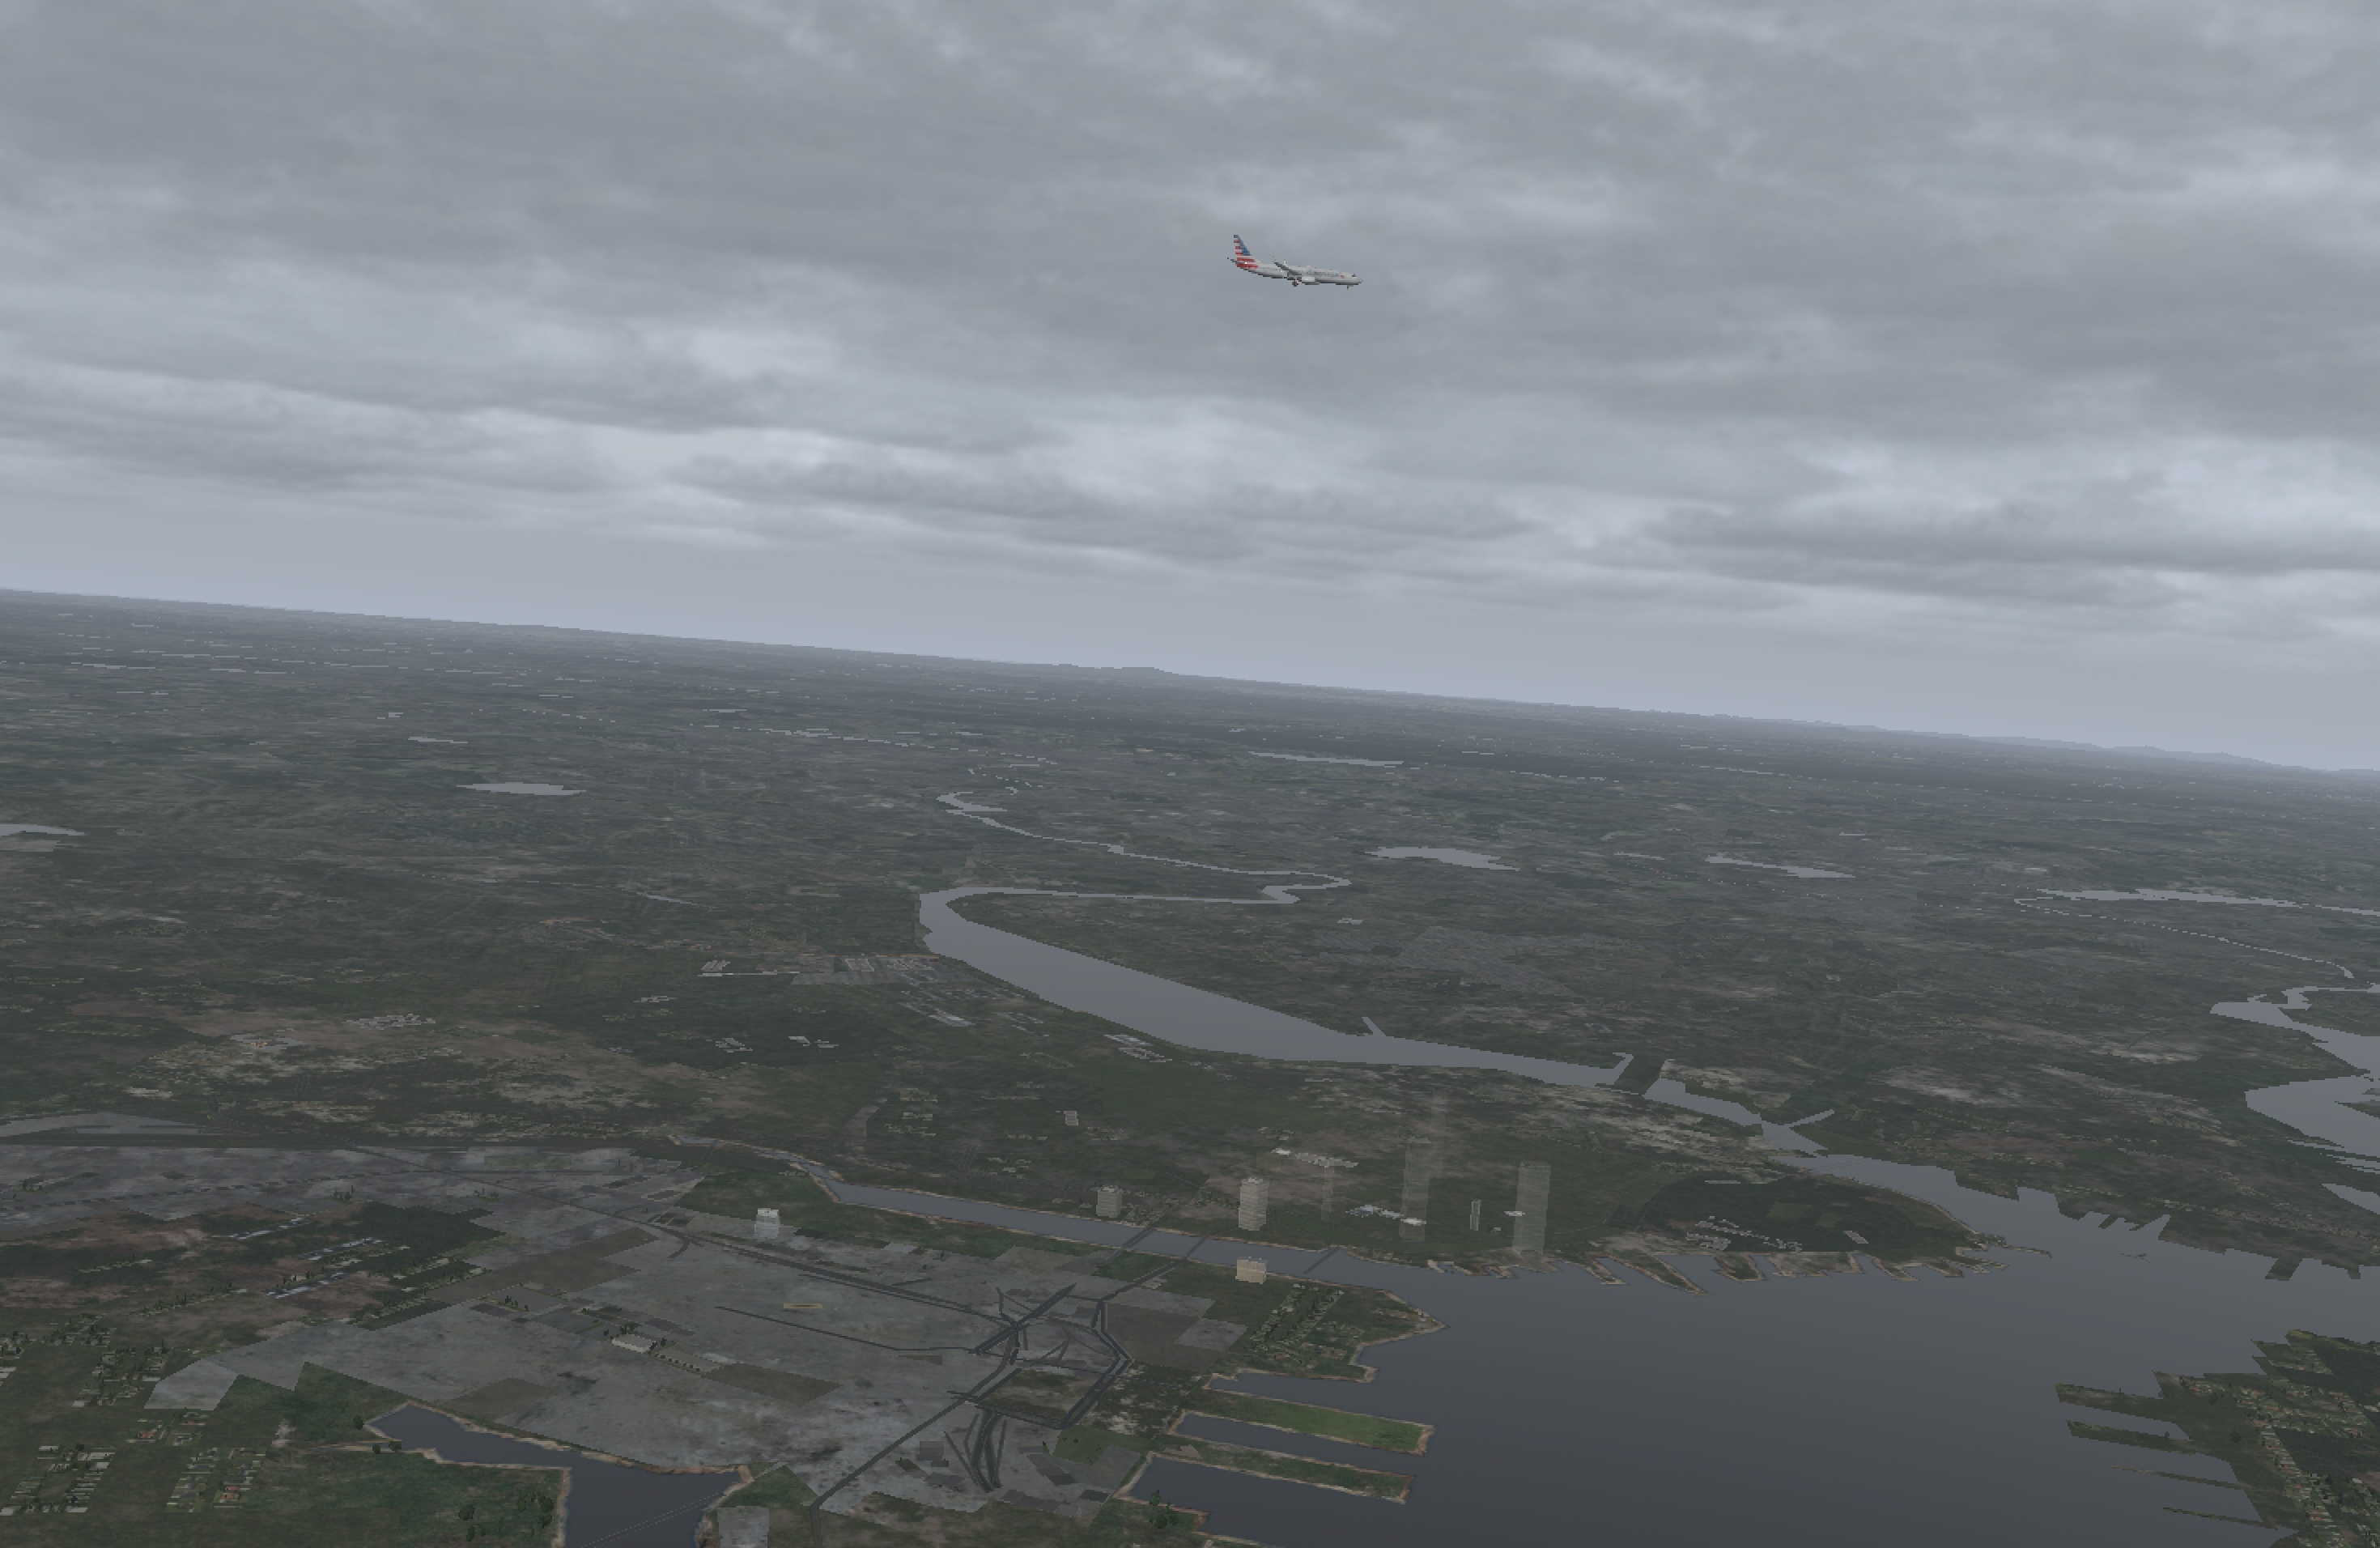aircraft: (1235, 252, 1365, 300)
